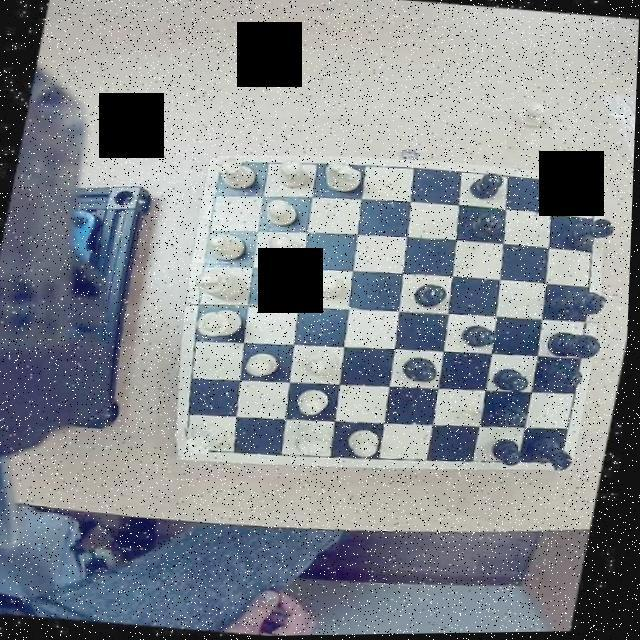chess-table-corners: (173, 426, 210, 461), (204, 157, 236, 190), (537, 442, 571, 472), (572, 182, 604, 208)
